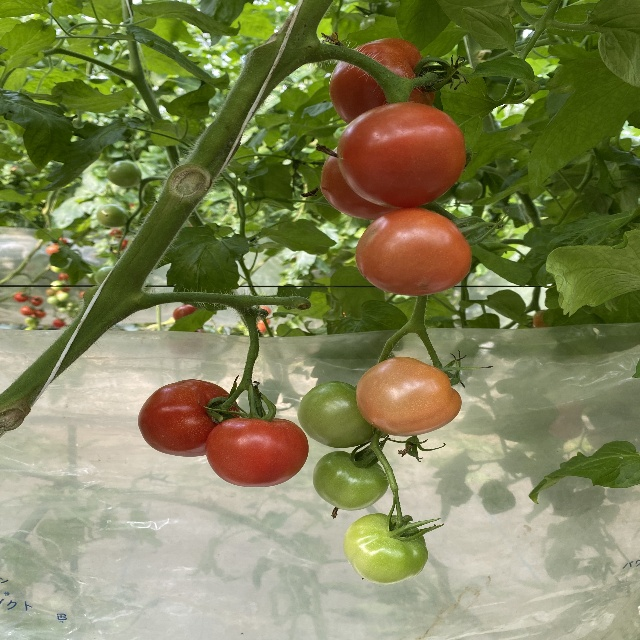l_fully_ripened: (336, 100, 466, 209), (329, 37, 436, 123), (137, 379, 240, 457), (203, 417, 309, 488), (320, 149, 402, 221)
l_green: (344, 513, 429, 584), (296, 381, 384, 448), (313, 450, 388, 510)
l_half_ripened: (356, 207, 472, 295), (354, 355, 463, 436)
